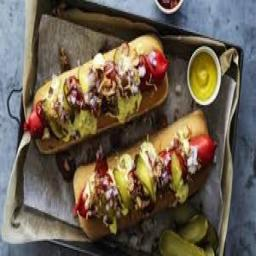hotdog: (72, 108, 220, 241), (20, 30, 168, 158)
